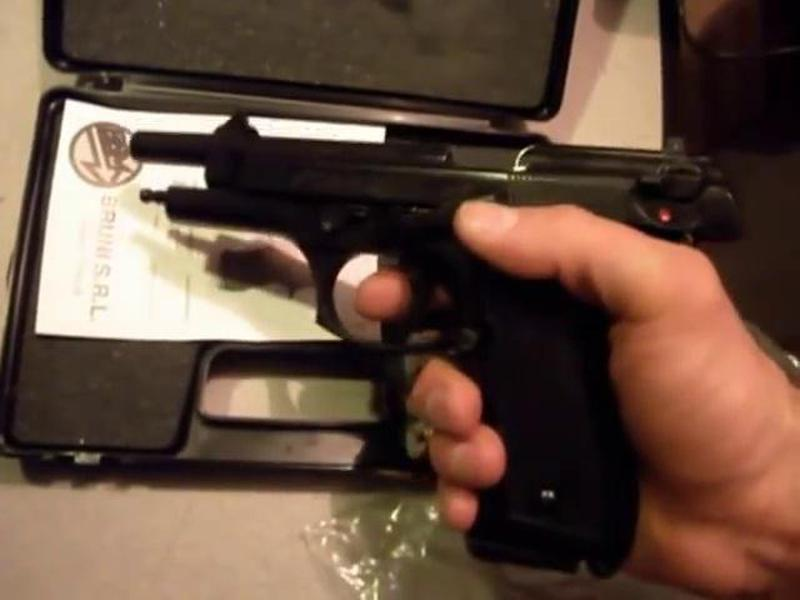Pistola: (137, 100, 731, 581)
